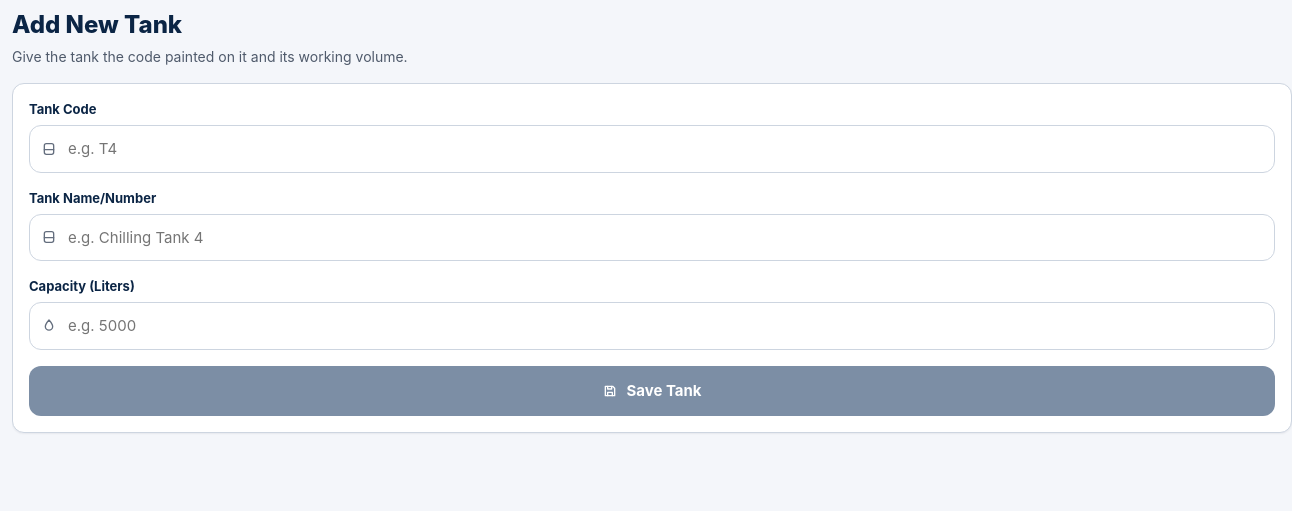
Scenario: adding a tank › shows the service's refusal rather than a generic failure
This screenshot has width=1292, height=511.
Type "T1" into the field labelled "Tank Code" at (652, 149), box top-left (29, 125), bottom-right (1275, 173)
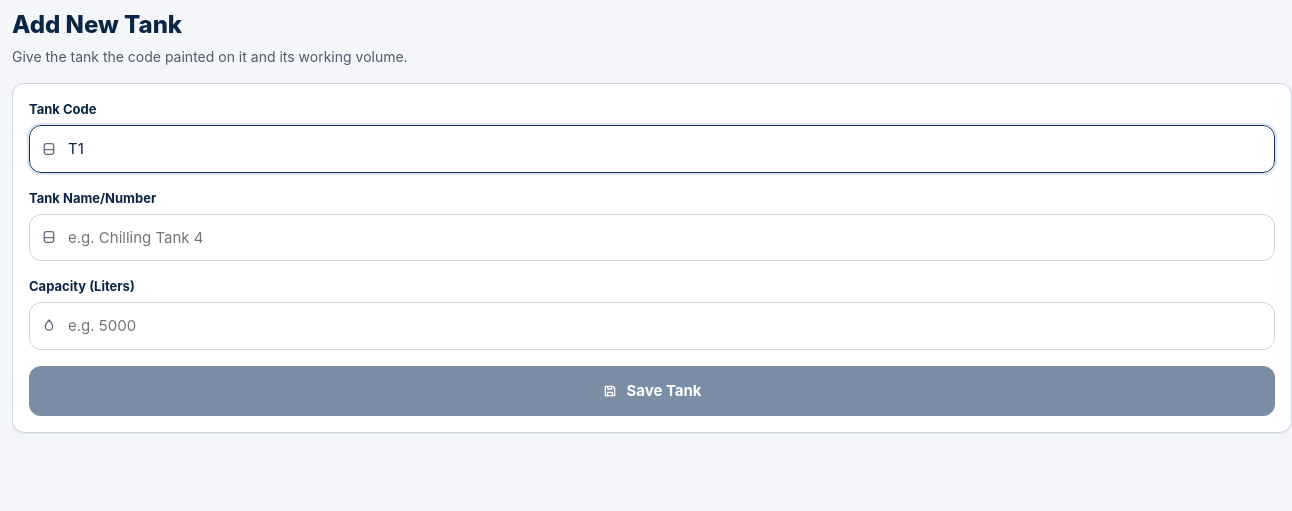
Type "Duplicate" into the field labelled "Tank Name/Number" at (652, 237), box top-left (29, 214), bottom-right (1275, 261)
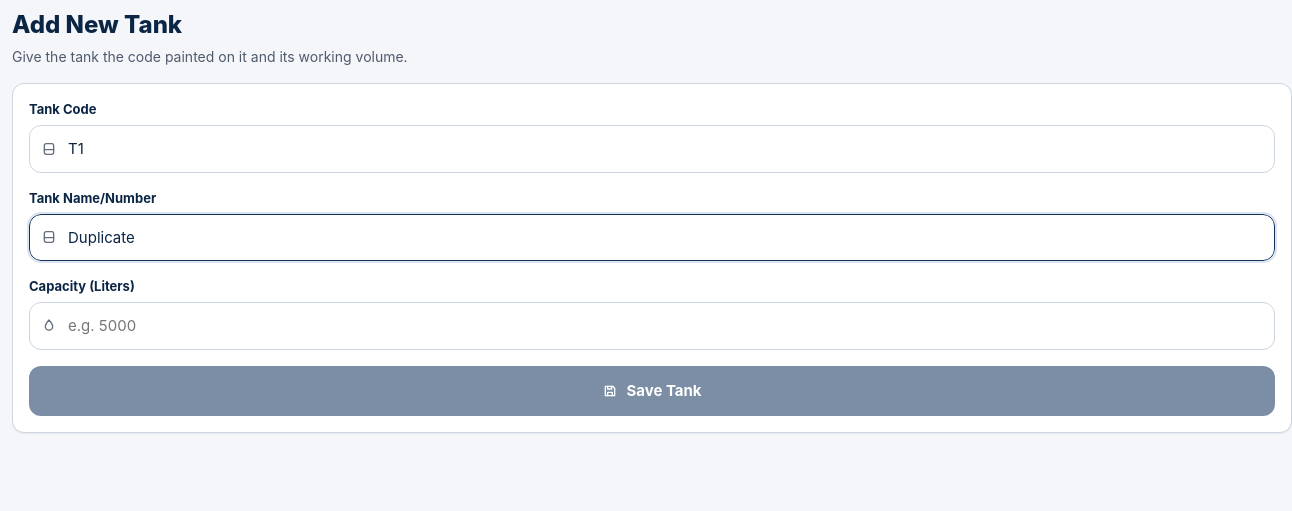
Type "5000" into the field labelled "Capacity (Liters)" at (652, 326), box top-left (29, 302), bottom-right (1275, 350)
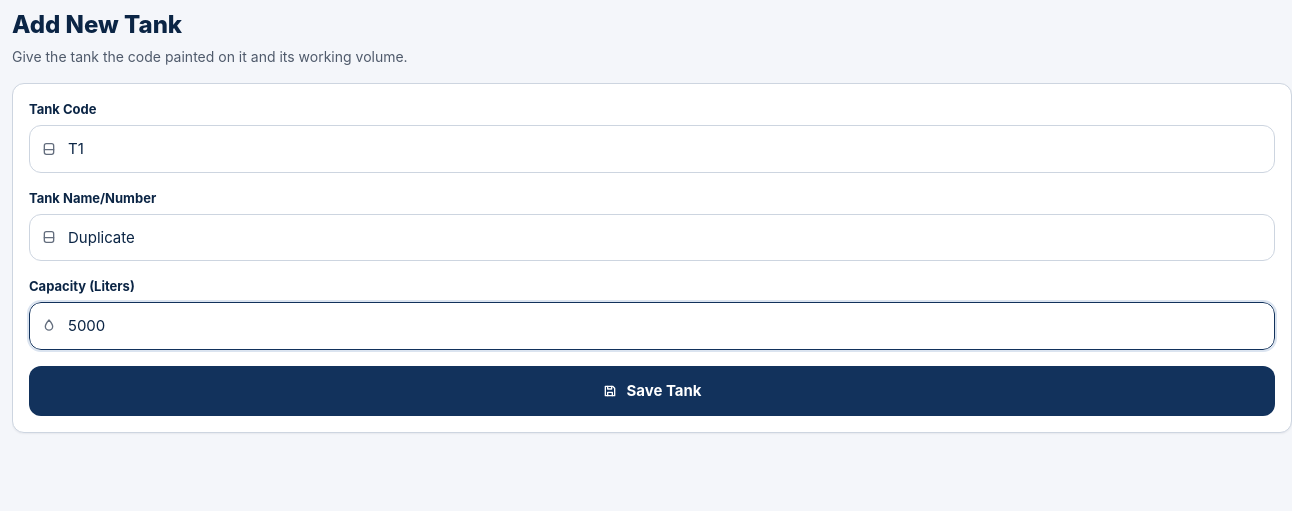
Click the button "Save Tank" at (652, 391), box top-left (29, 366), bottom-right (1275, 416)
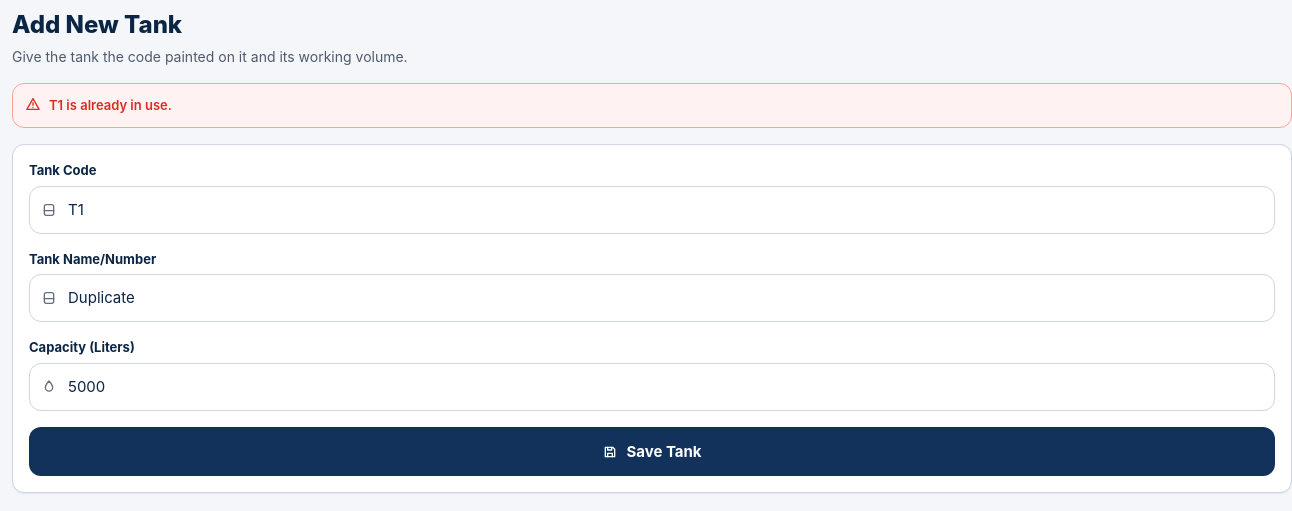
Result: the text "T1 is already in use." is shown at top-left (49, 96), bottom-right (172, 115)
